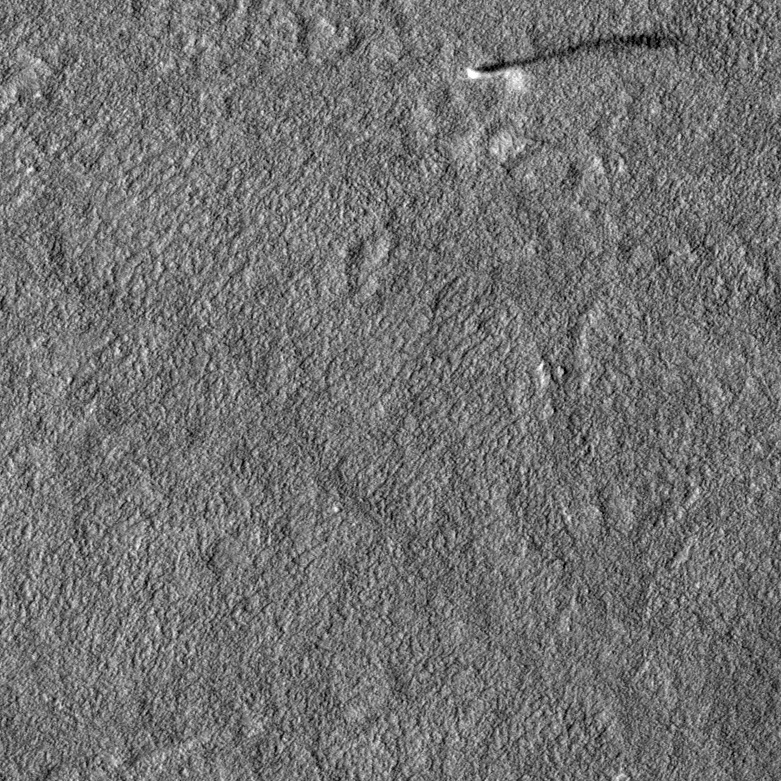dust_devil: (463, 24, 683, 96)
